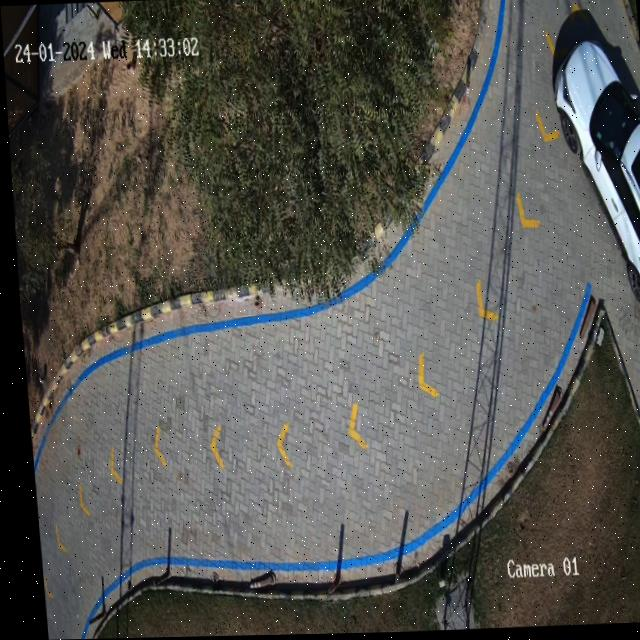car: (552, 43, 640, 309)
